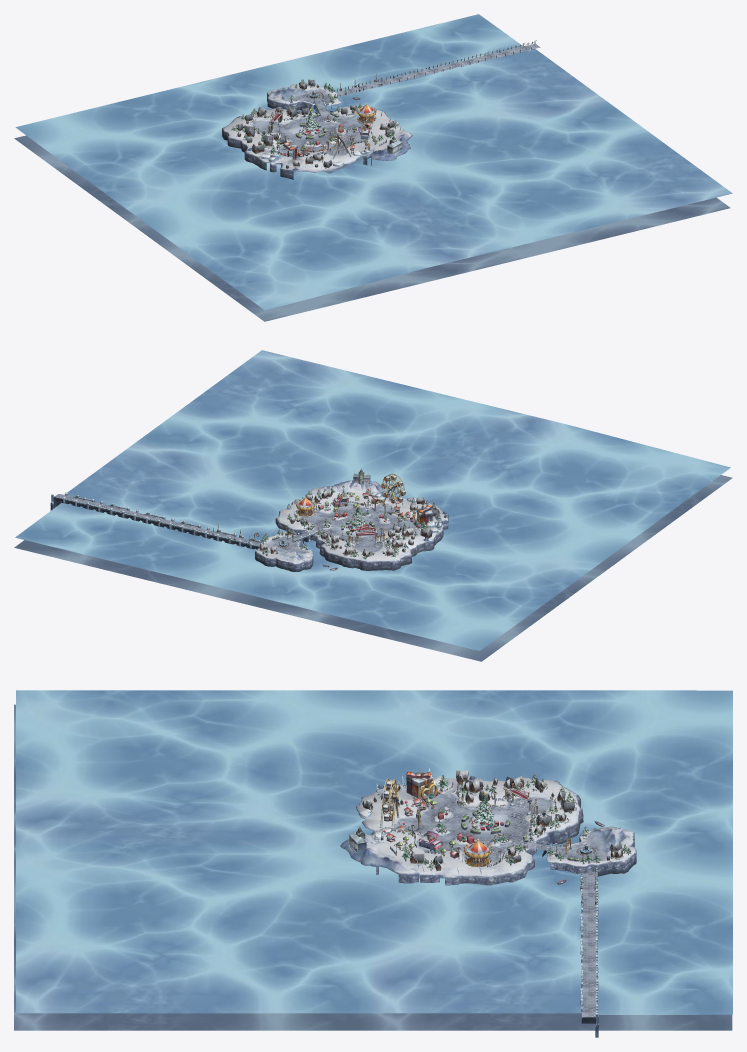
Rendered from febg_christmas_001_02.glb.
3 views of the same model, one above another, from view 1: azimuth 30°, elevation 25°; view 2: azimuth 150°, elevation 25°; view 3: azimuth 270°, elevation 25° (orthographic). The views are drawn at different scales.
Visible parts, largest first — view 1: febg_christmas_001_ice_01, febg_christmas_001_ice_02, febg_christmas_003_bg_01; view 2: febg_christmas_001_ice_01, febg_christmas_003_bg_01, febg_christmas_001_ice_02, febg_christmas_001_ferriswheel_01; view 3: febg_christmas_001_ice_01, febg_christmas_003_bg_01, febg_christmas_001_ice_02, febg_christmas_001_gifthouse_01, febg_christmas_001_ferriswheel_01, febg_christmas_001_bridge_01 (6), febg_christmas_001_carousel_01.
Part boxes in pixels (box(x1,y1,x2,y2)): febg_christmas_001_ice_01: box(15, 14, 732, 310); febg_christmas_001_ice_02: box(14, 105, 730, 321); febg_christmas_003_bg_01: box(222, 83, 412, 179); febg_christmas_001_ice_01: box(15, 350, 730, 650); febg_christmas_003_bg_01: box(255, 480, 448, 572); febg_christmas_001_ice_02: box(14, 475, 732, 661); febg_christmas_001_ferriswheel_01: box(381, 473, 405, 506); febg_christmas_001_ice_01: box(16, 690, 732, 1014); febg_christmas_003_bg_01: box(340, 776, 636, 885); febg_christmas_001_ice_02: box(14, 704, 732, 1030); febg_christmas_001_gifthouse_01: box(406, 771, 437, 799); febg_christmas_001_ferriswheel_01: box(379, 778, 399, 828); febg_christmas_001_bridge_01 (6): box(580, 988, 598, 1037); febg_christmas_001_carousel_01: box(463, 839, 492, 866).
Size of the model in its own units: 251 by 24.38 by 229.
13 materials, 13 textured.
